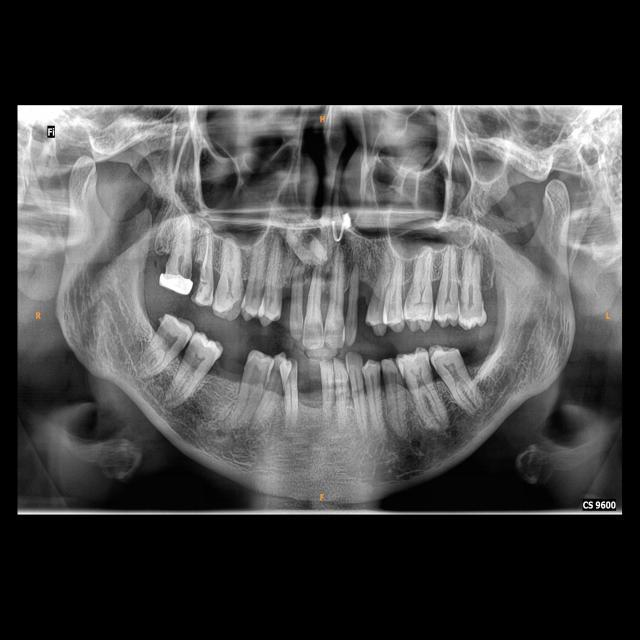dentin-curugu: (192, 258, 205, 297), (179, 255, 192, 280), (226, 301, 240, 323)
kanal-tedavisi: (201, 230, 212, 264)
kaplama: (157, 274, 192, 294)
